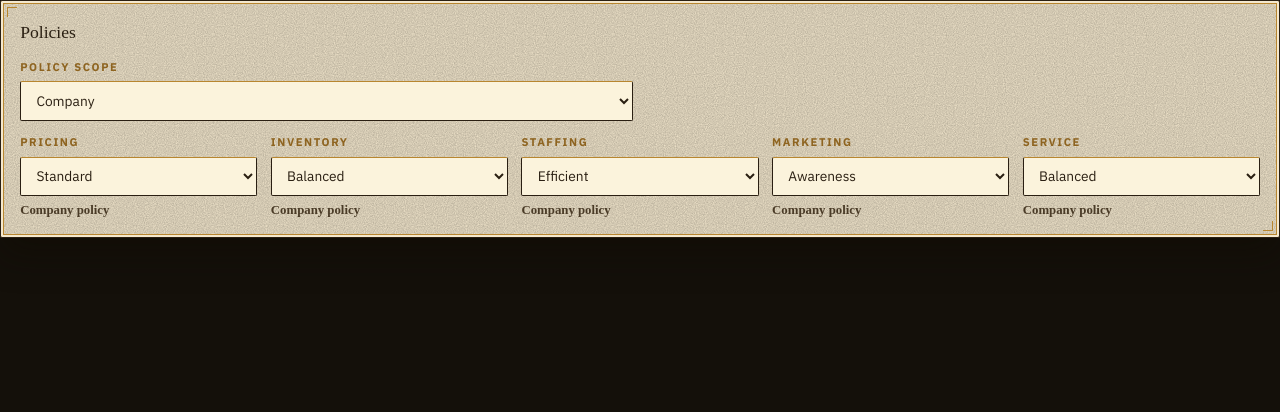
Test: PolicyPanel › disables clear and reset actions when canUpdateScoped is false
Select "City" in the dropdown labelled "Policy scope" at (327,101), box [20, 81, 633, 121]
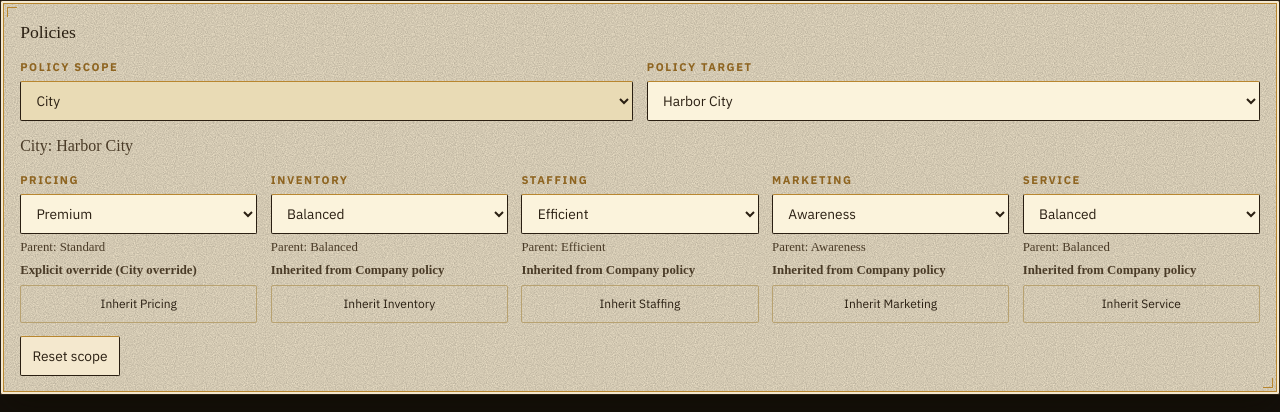
Now the button "Inherit Pricing" is disabled, box [20, 285, 257, 323]
Now the button "Reset scope" is disabled, box [20, 336, 120, 376]
